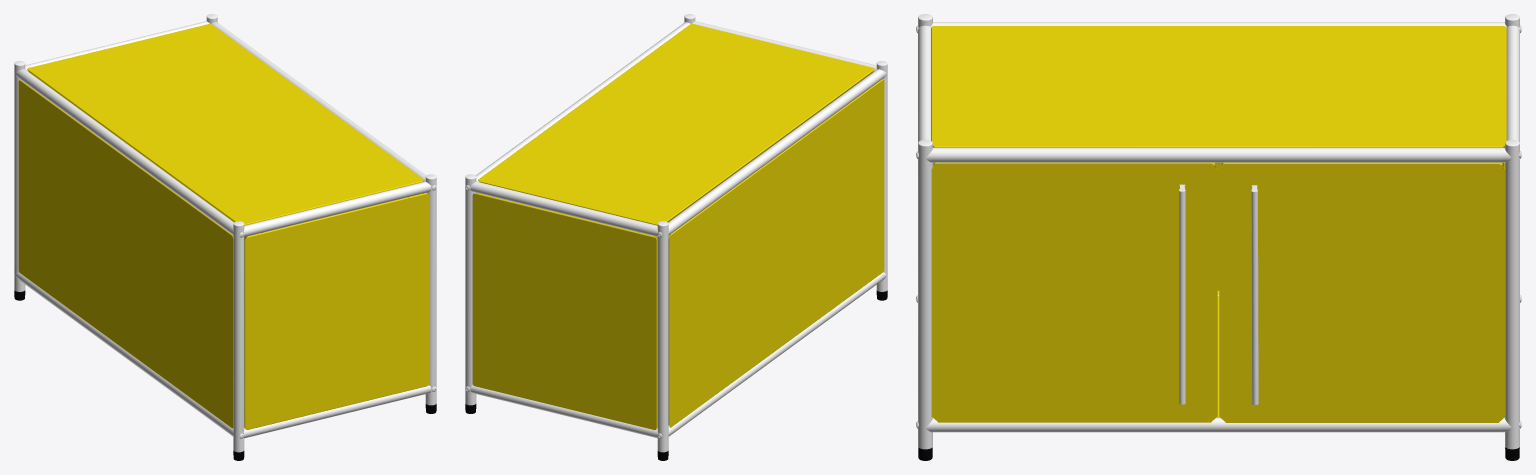
Rendered from 80x40x40-1-6-yellow_optimized_optimized.glb.
3 renders of one model, left to right at view 1: azimuth 30°, elevation 25°; view 2: azimuth 150°, elevation 25°; view 3: azimuth 270°, elevation 25°, orthographic. The views are drawn at different scales.
Visible parts, largest first — view 1: 直角鐵板-80x40-5 - 零件, new-上塞-1 - 零件; view 2: 直角鐵板-80x40-5 - 零件, new-上塞-1 - 零件; view 3: 直角鐵板-80x40-5 - 零件, new-上塞-1 - 零件.
Part boxes in pixels (left/top/right/bottom): 直角鐵板-80x40-5 - 零件: left=18, top=23, right=429, bottom=429; new-上塞-1 - 零件: left=14, top=14, right=436, bottom=452; 直角鐵板-80x40-5 - 零件: left=472, top=23, right=884, bottom=429; new-上塞-1 - 零件: left=465, top=14, right=887, bottom=452; 直角鐵板-80x40-5 - 零件: left=931, top=26, right=1506, bottom=422; new-上塞-1 - 零件: left=916, top=14, right=1521, bottom=449.
Size of the model in its own units: 0.4203 by 0.4453 by 0.7732.
